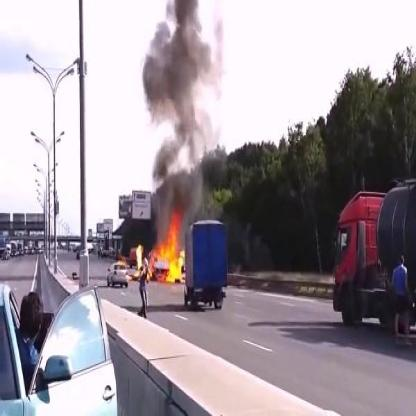fire: (148, 206, 188, 283), (135, 242, 144, 272)
